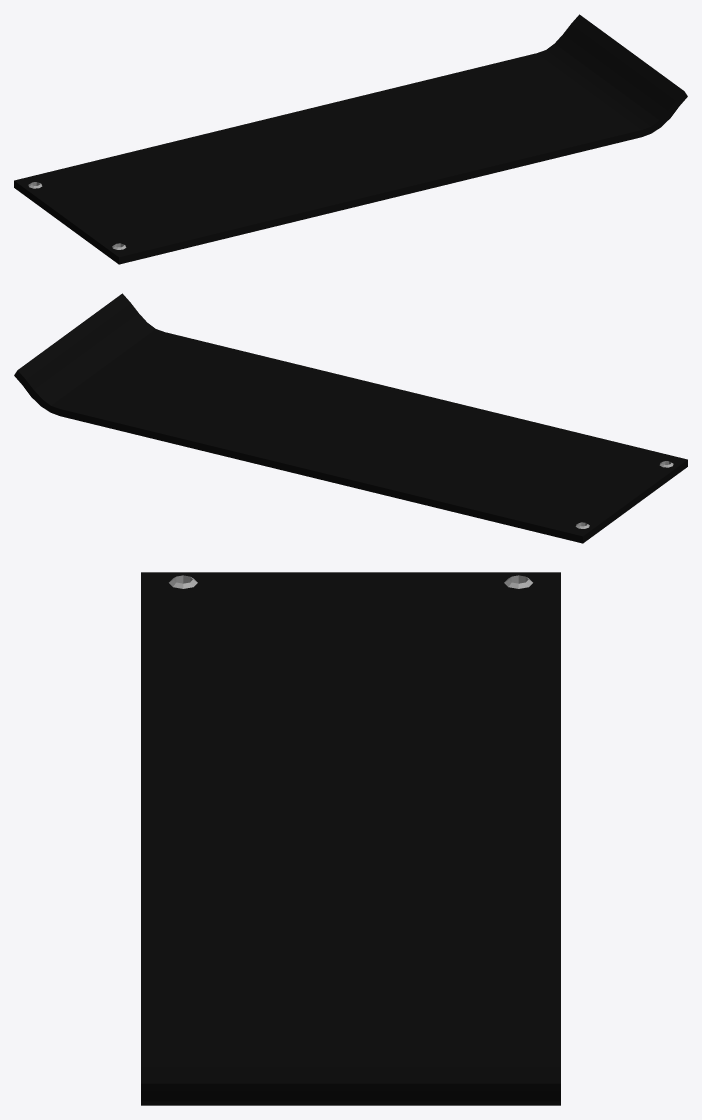
The model's file is BlackMat.001.fbx.
The picture shows the model from 3 angles, top to bottom: view 1: azimuth 30°, elevation 25°; view 2: azimuth 150°, elevation 25°; view 3: azimuth 270°, elevation 25°; orthographic projection. The views are drawn at different scales.
Visible parts, largest first — view 1: BlackMat.001; view 2: BlackMat.001; view 3: BlackMat.001.
Boxes of the visible parts, left/top/right/bottom form: BlackMat.001: left=14, top=14, right=687, bottom=264; BlackMat.001: left=14, top=293, right=687, bottom=543; BlackMat.001: left=141, top=572, right=560, bottom=1105.
Size of the model in its own units: 177 by 11.19 by 56.7.
